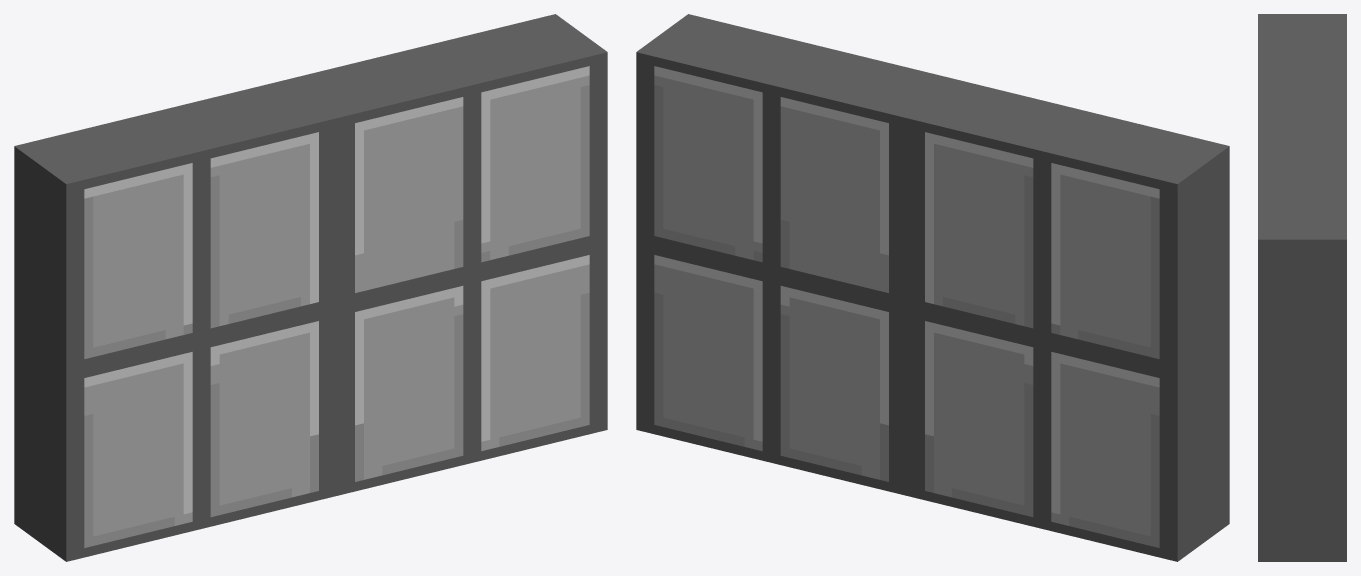
File: Green House Wall 3.obj
3 renders of one model, left to right at view 1: azimuth 30°, elevation 25°; view 2: azimuth 150°, elevation 25°; view 3: azimuth 270°, elevation 25°, orthographic. The views are drawn at different scales.
Size of the model in its own units: 60 by 40 by 10.
Materials: 1 (1 with a texture image).
